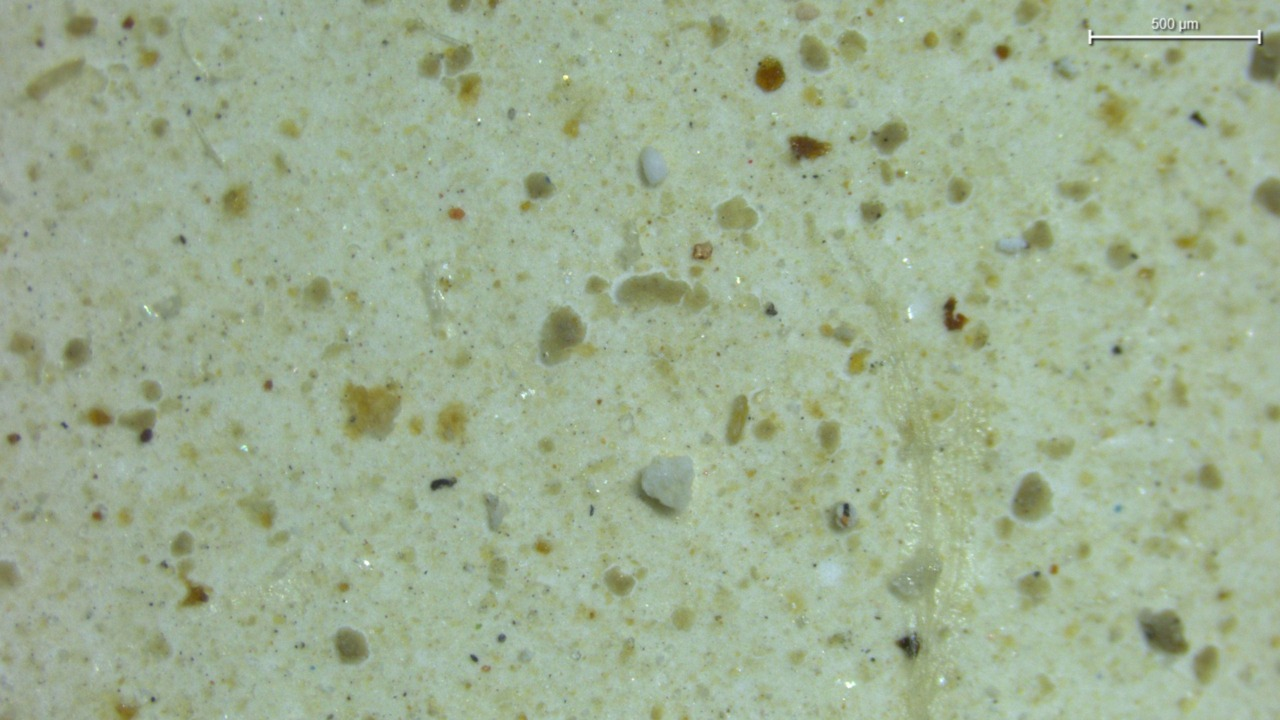microplastic_fragment: (638, 457, 694, 513), (638, 147, 668, 187)
